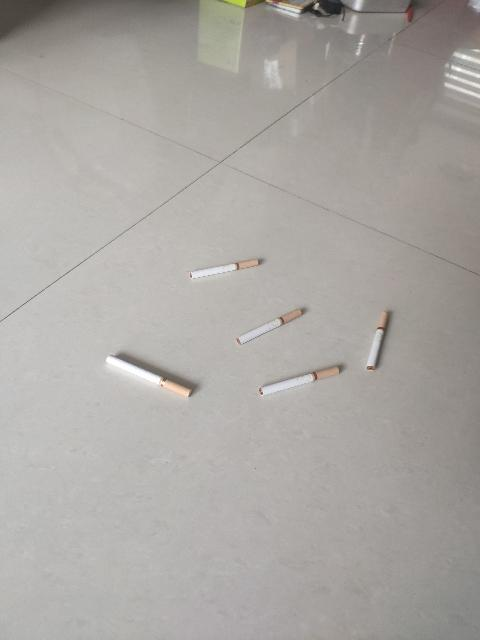Smoking: (106, 356, 196, 398), (236, 308, 304, 346), (260, 366, 340, 396), (368, 312, 390, 372), (189, 260, 259, 278)
